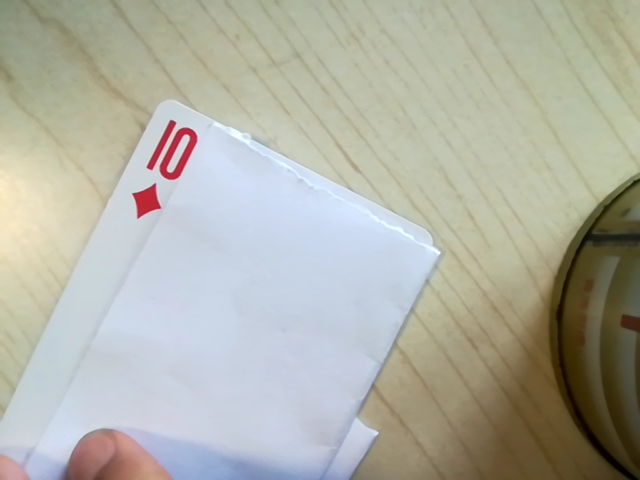fk 10: (125, 117, 203, 220)
